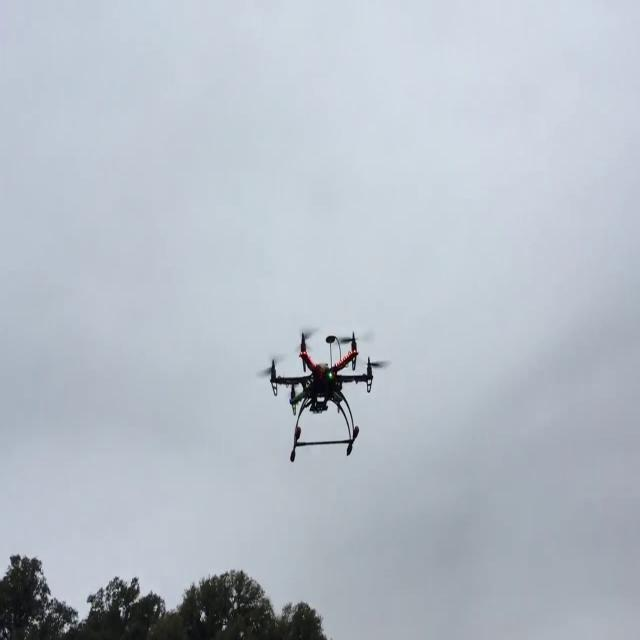drone: (254, 329, 389, 466)
